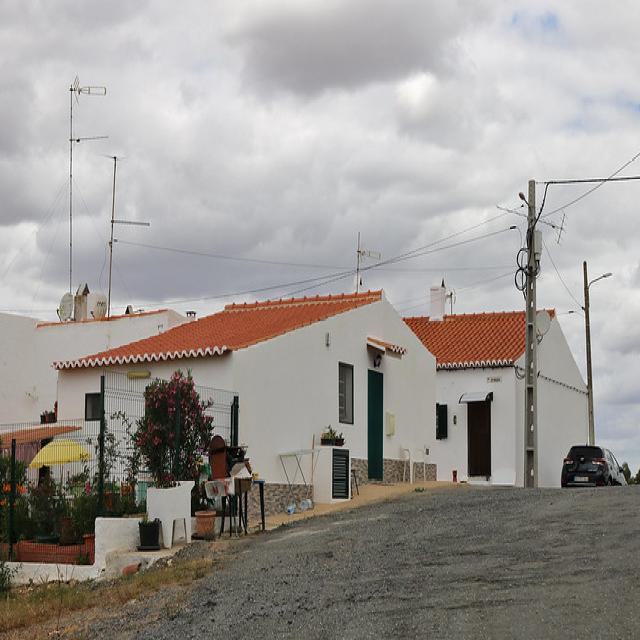Normal_building: (48, 286, 439, 499), (390, 313, 596, 496)
